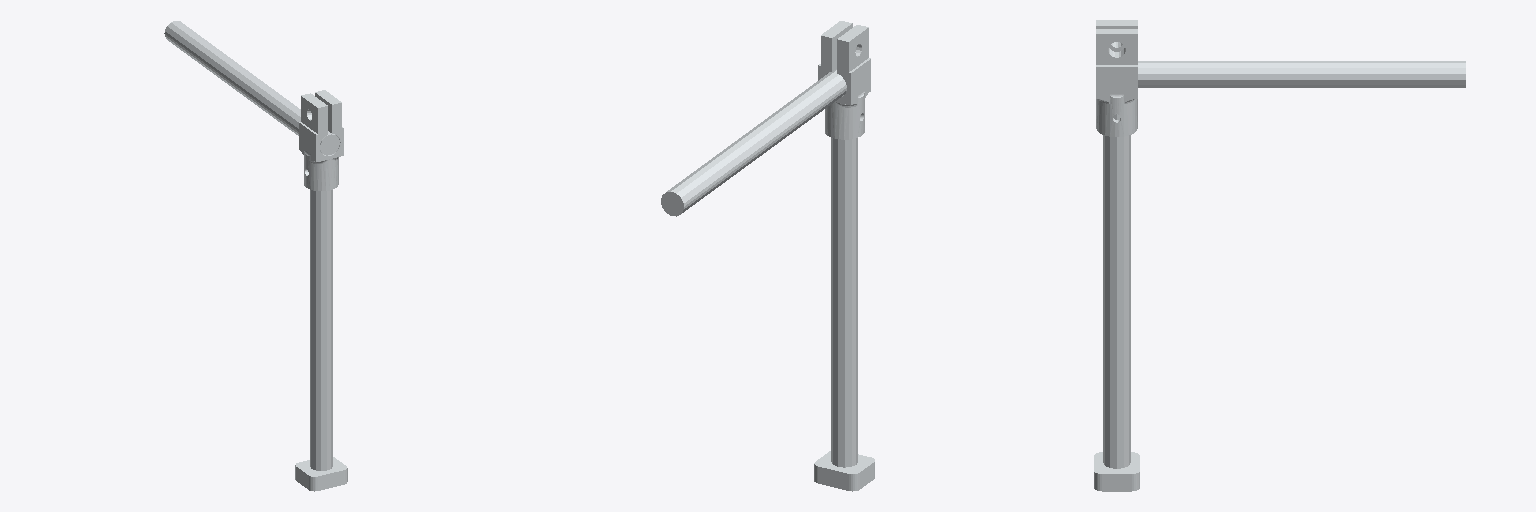
URDF robot description (rlr_urdf):
<?xml version="1.0" encoding="utf-8"?>
<!-- This URDF was automatically created by SolidWorks to URDF Exporter! Originally created by [author] ([email redacted]) 
     Commit Version: 1.6.0-4-g7f85cfe  Build Version: 1.6.7995.38578
     For more information, please see http://wiki.ros.org/sw_urdf_exporter -->
<robot
  name="rlr_urdf">
  <link name="world"/>
  <joint name="base_joint" type="fixed">
    <parent link="world"/>
    <child link="base_link"/>
    <origin rpy="0 0 0" xyz="0.0 0.0 0.0"/>
  </joint>
  <link
    name="base_link">
    <inertial>
      <origin
        xyz="0.00342176381203117 1.21185466120619E-17 0.115523167246497"
        rpy="0 0 0" />
      <mass
        value="1.18477431527511" />
      <inertia
        ixx="0.0031159912807979"
        ixy="-5.74198406865658E-21"
        ixz="4.70019194151019E-09"
        iyy="0.00313601560486392"
        iyz="-1.63631196097593E-19"
        izz="0.00060233945833847" />
    </inertial>
    <visual>
      <origin
        xyz="0 0 0"
        rpy="0 0 0" />
      <geometry>
        <mesh
          filename="package://urdf and meshes/with smaller weight/meshes/base_link.STL" />
      </geometry>
      <material
        name="">
        <color
          rgba="0.898039215686275 0.917647058823529 0.929411764705882 1" />
      </material>
    </visual>
    <collision>
      <origin
        xyz="0 0 0"
        rpy="0 0 0" />
      <geometry>
        <mesh
          filename="package://urdf and meshes/with smaller weight/meshes/base_link.STL" />
      </geometry>
    </collision>
  </link>
  <link
    name="link1">
    <inertial>
      <origin
        xyz="-0.00470275373818045 0.0205425248922021 -1.56319551935448E-11"
        rpy="0 0 0" />
      <mass
        value="0.277545817278689" />
      <inertia
        ixx="8.24674529556576E-05"
        ixy="-2.35431054068679E-06"
        ixz="-4.33569310789201E-15"
        iyy="7.41184078984699E-05"
        iyz="4.75667402766237E-15"
        izz="4.54941902777947E-05" />
    </inertial>
    <visual>
      <origin
        xyz="0 0 0"
        rpy="0 0 0" />
      <geometry>
        <mesh
          filename="package://urdf and meshes/with smaller weight/meshes/link1.STL" />
      </geometry>
      <material
        name="">
        <color
          rgba="1 1 1 1" />
      </material>
    </visual>
    <collision>
      <origin
        xyz="0 0 0"
        rpy="0 0 0" />
      <geometry>
        <mesh
          filename="package://urdf and meshes/with smaller weight/meshes/link1.STL" />
      </geometry>
    </collision>
  </link>
  <joint
    name="joint1"
    type="revolute">
    <origin
      xyz="0 0 0.213"
      rpy="1.5708 0 1.5708" />
    <parent
      link="base_link" />
    <child
      link="link1" />
    <axis
      xyz="0 1 0" />
    <limit
      lower="-3.14"
      upper="3.14"
      effort="0.07"
      velocity="46" />
  </joint>
  <link
    name="link2">
    <inertial>
      <origin
        xyz="3.4671E-06 -0.048454 -0.078372"
        rpy="0 0 0" />
      <mass
        value="0.069745" />
      <inertia
        ixx="0.00010175"
        ixy="-3.0229E-09"
        ixz="-1.9355E-12"
        iyy="4.4532E-05"
        iyz="1.418E-14"
        izz="5.8484E-05" />
    </inertial>
    <visual>
      <origin
        xyz="0 0 0"
        rpy="0 0 0" />
      <geometry>
        <mesh
          filename="package://urdf and meshes/with smaller weight/meshes/link2.STL" />
      </geometry>
      <material
        name="">
        <color
          rgba="0.89804 0.91765 0.92941 1" />
      </material>
    </visual>
    <collision>
      <origin
        xyz="0 0 0"
        rpy="0 0 0" />
      <geometry>
        <mesh
          filename="package://urdf and meshes/with smaller weight/meshes/link2.STL" />
      </geometry>
    </collision>
  </link>
  <joint
    name="joint2"
    type="continuous">
    <origin
      xyz="0 0.025 0"
      rpy="0 1.5708 0" />
    <parent
      link="link1" />
    <child
      link="link2" />
    <axis
      xyz="0 0 1" />
  </joint>
</robot>

--- Render facts (derived) ---
3 views of the same robot in one strip: view 1: azimuth 30°, elevation 25°; view 2: azimuth 150°, elevation 25°; view 3: azimuth 270°, elevation 25° (orthographic).
Robot: rlr_urdf — 4 links, 3 joints (1 revolute, 1 continuous, 1 fixed); root link world; default pose: every joint at zero.
Visible links, largest first — view 1: link2; view 2: link2; view 3: link2.
Boxes of the visible links, box(x1,y1,x2,y2) form: link2: box(164, 21, 347, 491); link2: box(661, 21, 874, 491); link2: box(1094, 20, 1465, 491).
Size in the robot's own frame: 0.019 by 0.1358 by 0.1855 metres.
Meshes: 3 distinct files referenced, 1 mesh visuals loaded (1 binary STL); not drawn: 2 (reference not matched to a file when rendering).